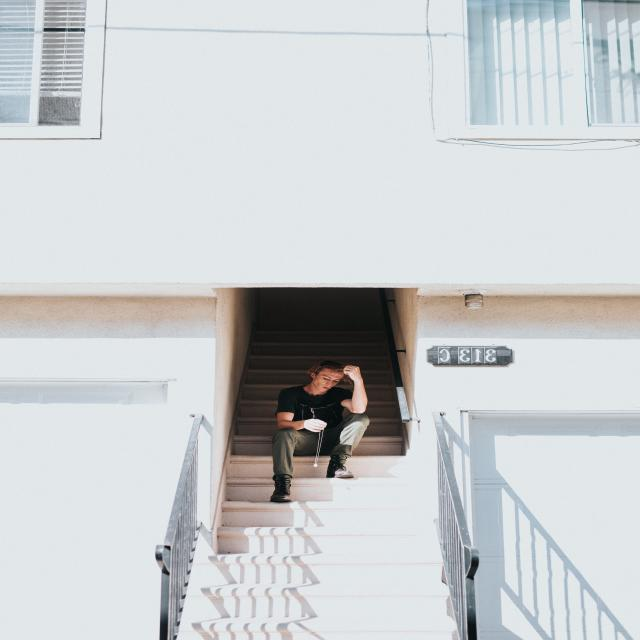adult: (264, 359, 379, 507)
